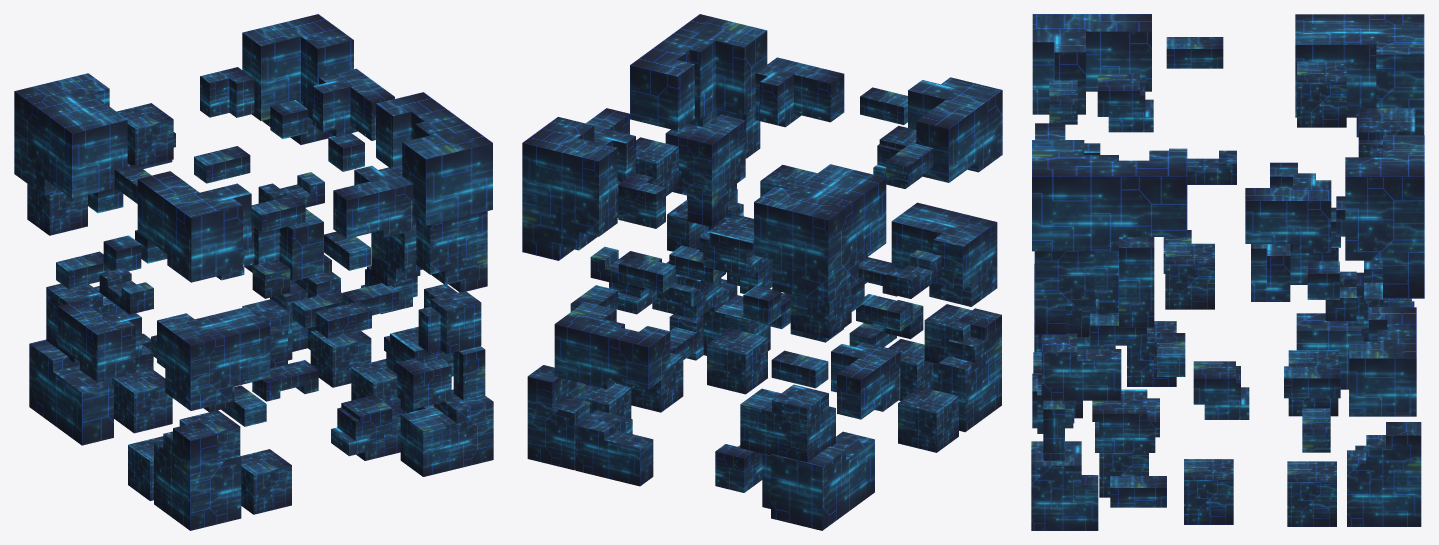
The model's file is shitou.FBX.
3 renders of one model, left to right at view 1: azimuth 30°, elevation 25°; view 2: azimuth 150°, elevation 25°; view 3: azimuth 270°, elevation 25°, orthographic. The views are drawn at different scales.
Visible parts, largest first — view 1: 46, 04, 01, 08, 34, 11, 26, 56, 55, 03, 20, 33 (+38 smaller); view 2: 46, 04, 34, 56, 01, 37, 08, 21, 54, 11, 03, 41 (+36 smaller); view 3: 04, 34, 46, 01, 41, 37, 33, 26, 21, 22, 20, 27 (+28 smaller).
Part boxes in pixels (x1,y1,x2,y2): 46: [14, 73, 127, 198]; 04: [376, 92, 492, 225]; 01: [137, 171, 251, 282]; 08: [157, 307, 270, 410]; 34: [242, 14, 353, 144]; 11: [154, 421, 241, 530]; 26: [400, 389, 493, 476]; 56: [29, 339, 113, 445]; 55: [58, 300, 141, 382]; 03: [333, 165, 413, 238]; 20: [416, 211, 487, 292]; 33: [312, 68, 394, 140]; 46: [754, 164, 886, 303]; 04: [630, 14, 767, 130]; 34: [522, 117, 617, 260]; 56: [762, 431, 874, 530]; 01: [908, 77, 1002, 182]; 37: [554, 302, 670, 389]; 08: [891, 202, 997, 306]; 21: [665, 114, 745, 227]; 54: [740, 384, 835, 462]; 11: [933, 308, 1001, 432]; 03: [755, 57, 844, 127]; 41: [527, 365, 589, 470]; 04: [1032, 140, 1187, 251]; 34: [1345, 135, 1424, 298]; 46: [1295, 14, 1424, 137]; 01: [1032, 14, 1151, 114]; 41: [1347, 422, 1421, 526]; 37: [1349, 307, 1416, 416]; 33: [1245, 173, 1331, 252]; 26: [1031, 441, 1098, 530]; 21: [1094, 237, 1154, 327]; 22: [1041, 333, 1121, 400]; 20: [1034, 251, 1094, 334]; 27: [1092, 389, 1159, 452].
Bounding box in the file's own units: 19585 × 19578 × 19628.
